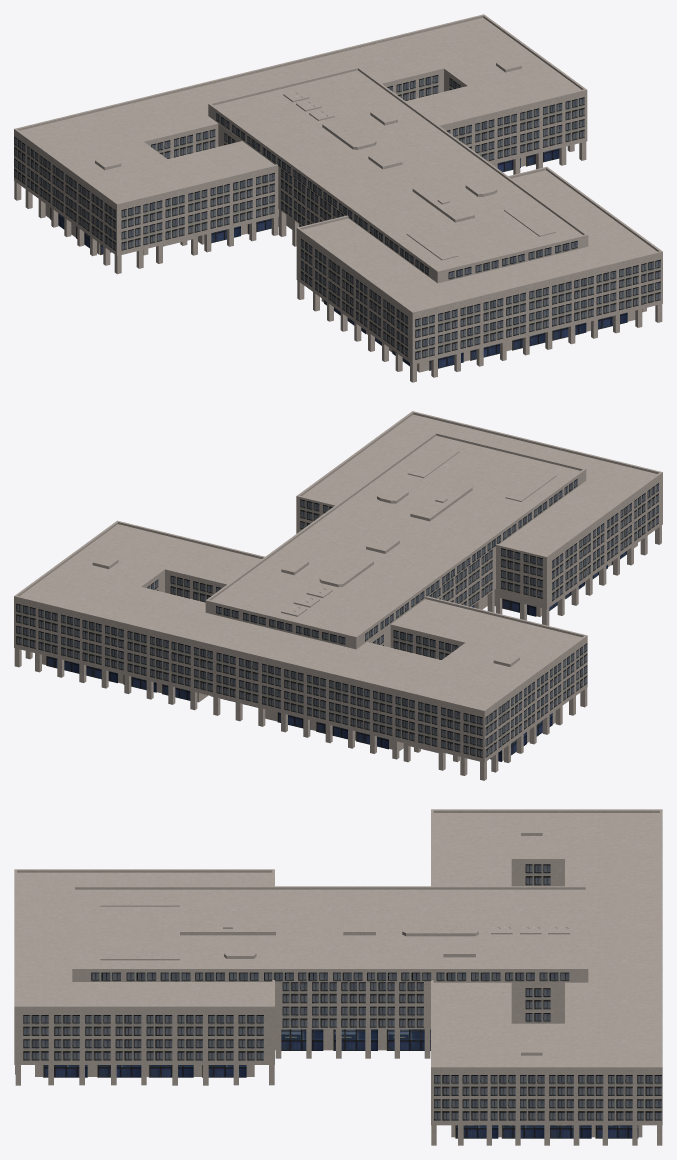
The model's file is United States Department of Labor.FBX.
The picture shows the model from 3 angles, top to bottom: view 1: azimuth 30°, elevation 25°; view 2: azimuth 150°, elevation 25°; view 3: azimuth 270°, elevation 25°; orthographic projection. The views are drawn at different scales.
Visible parts, largest first — view 1: Object025; view 2: Object025; view 3: Object025.
Boxes of the visible parts, bbox=[...] form: Object025: bbox=[14, 14, 662, 382]; Object025: bbox=[14, 411, 662, 780]; Object025: bbox=[14, 809, 662, 1145].
Bounding box in the file's own units: 713 × 120 × 757.
2 materials, 2 textured.
